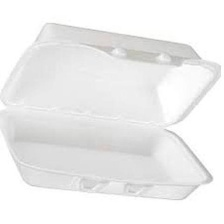foam_box: (0, 16, 224, 206)
